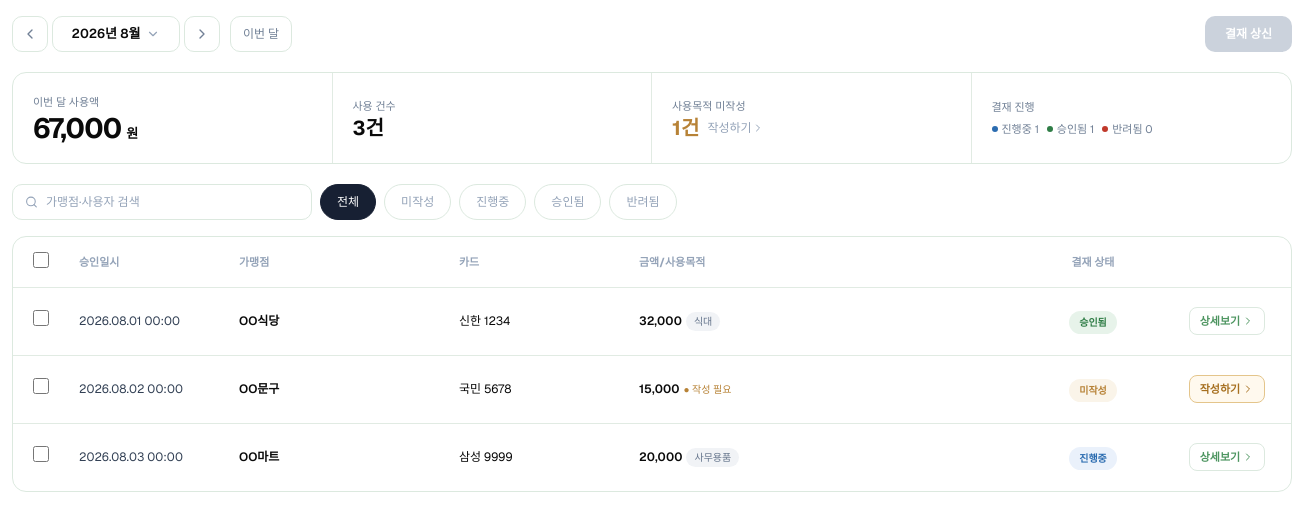
FinanceCorporateCardManagement › 전체 선택 체크박스를 클릭하면 노출된 모든 내역이 선택된다
Click the checkbox named "전체 선택".
click(41, 260)  # box x1=33 y1=252 x2=49 y2=268
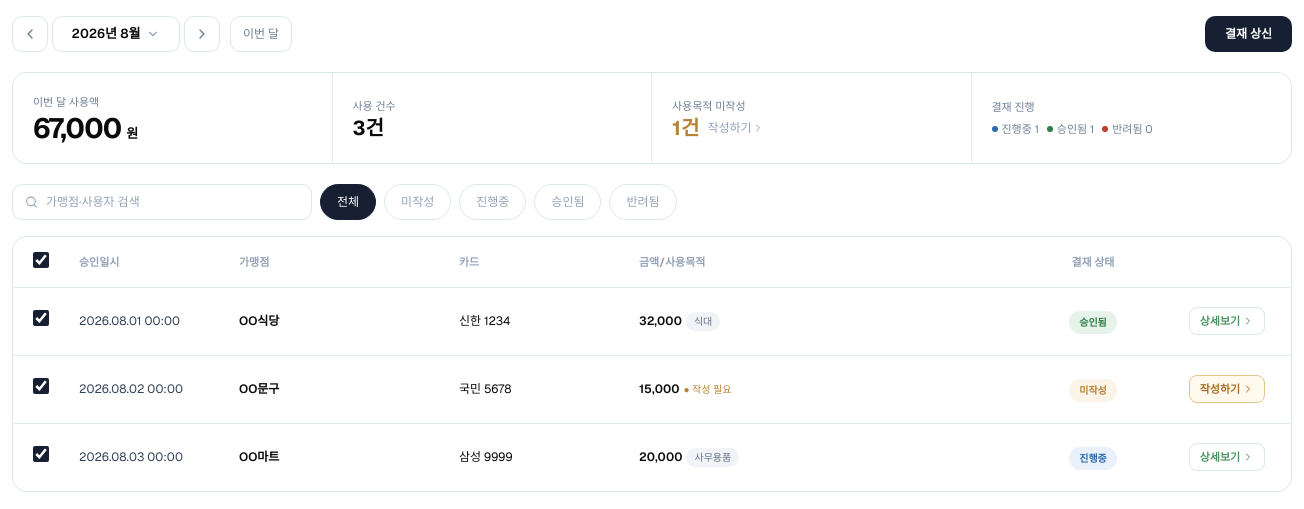
Expected: the checkbox named "OO식당 선택" is checked, x1=33 y1=310 x2=49 y2=326
Expected: the checkbox named "OO문구 선택" is checked, x1=33 y1=378 x2=49 y2=394
Expected: the checkbox named "OO마트 선택" is checked, x1=33 y1=446 x2=49 y2=462
